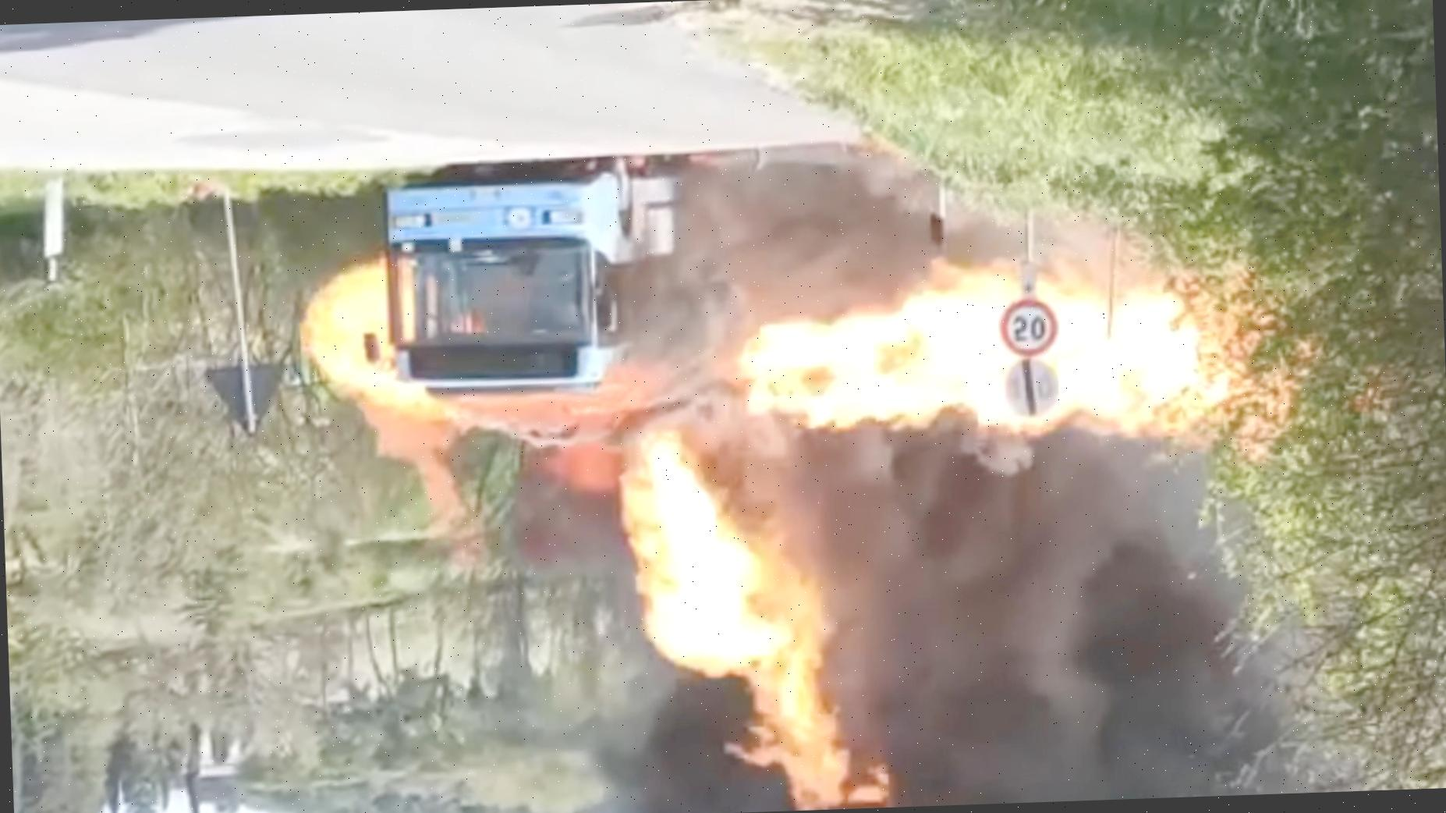fire: (758, 251, 1311, 445), (607, 400, 867, 810), (225, 257, 595, 496)
smoke: (872, 432, 1346, 802)
